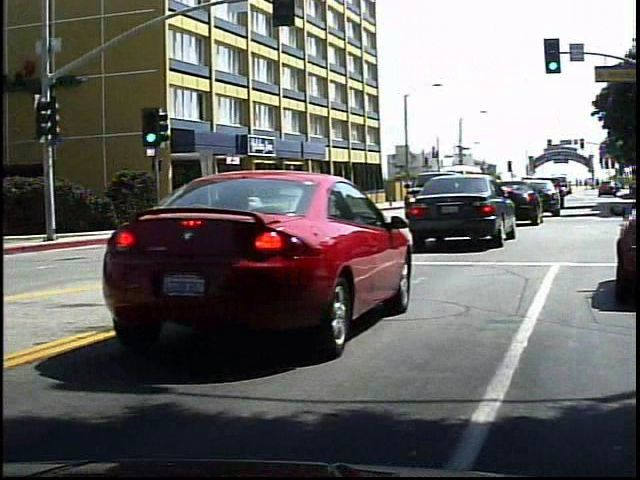person: (281, 185, 300, 224)
